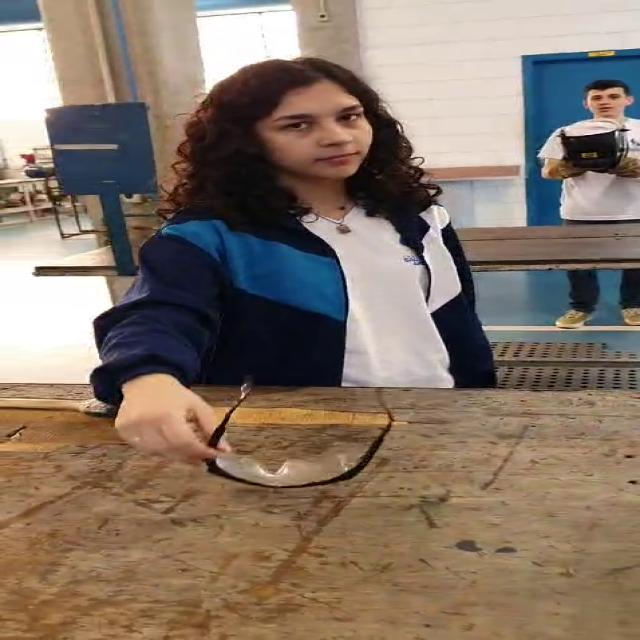sem_oculos: (238, 106, 389, 140), (584, 90, 637, 106)
